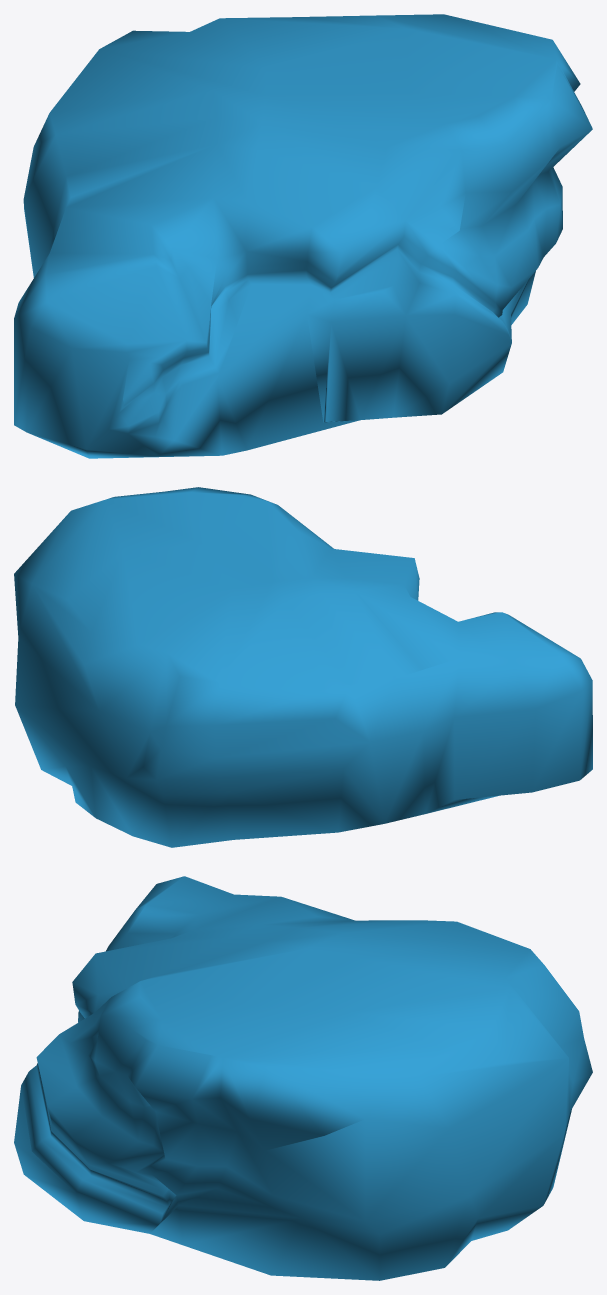
File: Rock_03_Lod1.fbx
3 views of the same model, one above another, from view 1: azimuth 30°, elevation 25°; view 2: azimuth 150°, elevation 25°; view 3: azimuth 270°, elevation 25° (orthographic). The views are drawn at different scales.
Parts seen in each view (by area): view 1: Rock_03_Lod1; view 2: Rock_03_Lod1; view 3: Rock_03_Lod1.
Boxes of the visible parts, left/top/right/bottom form: Rock_03_Lod1: left=14, top=14, right=592, bottom=458; Rock_03_Lod1: left=14, top=487, right=592, bottom=847; Rock_03_Lod1: left=14, top=876, right=592, bottom=1280.
Size of the model in its own units: 2878 by 1223 by 2456.
